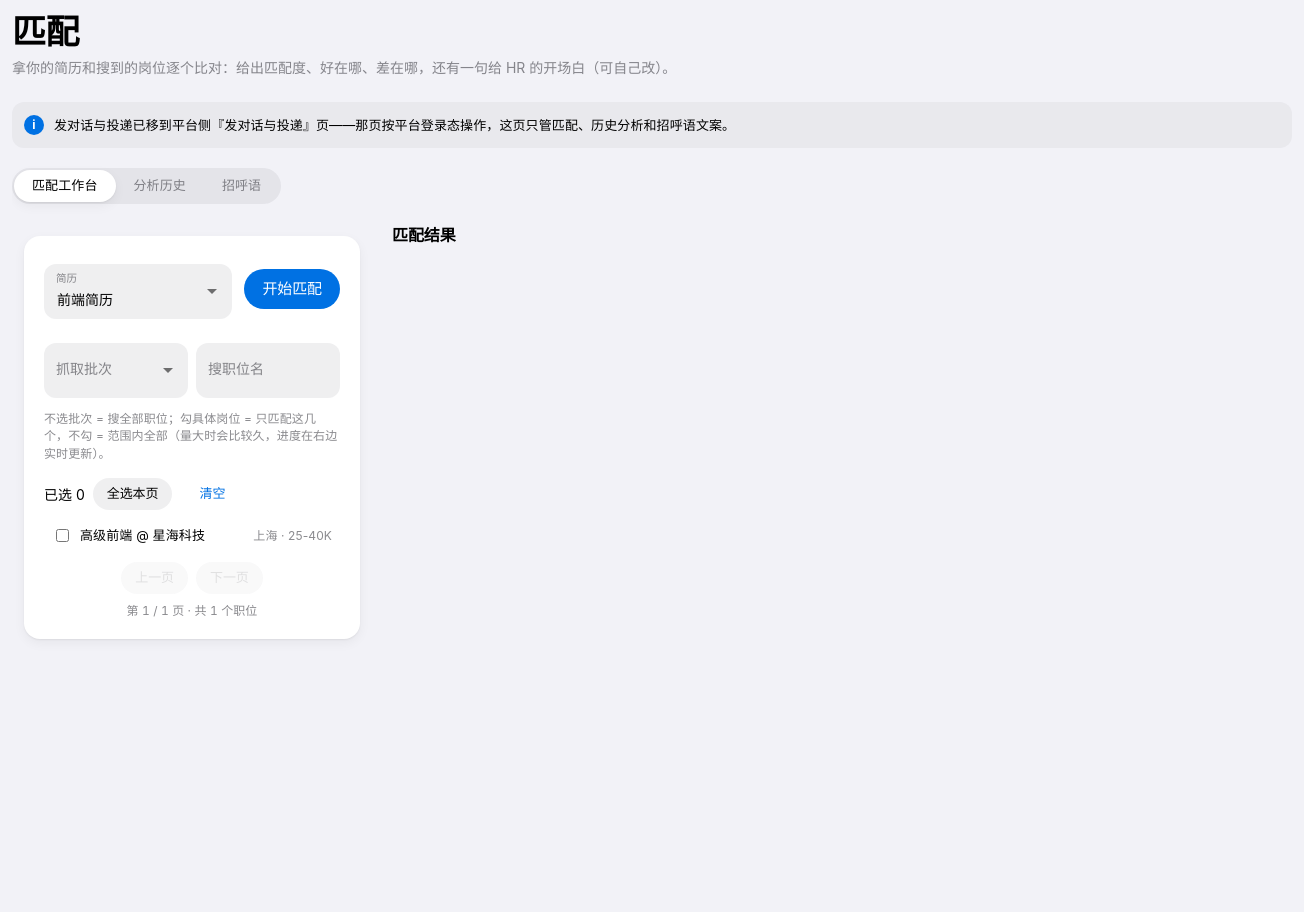
MatchPage 分段 › 首屏在匹配工作台，三个分段可切换
Expected: the button "开始匹配" is shown, [244,269,340,309]
Click the radio button labelled "分析历史" at (160, 186), box [116,170,204,202]
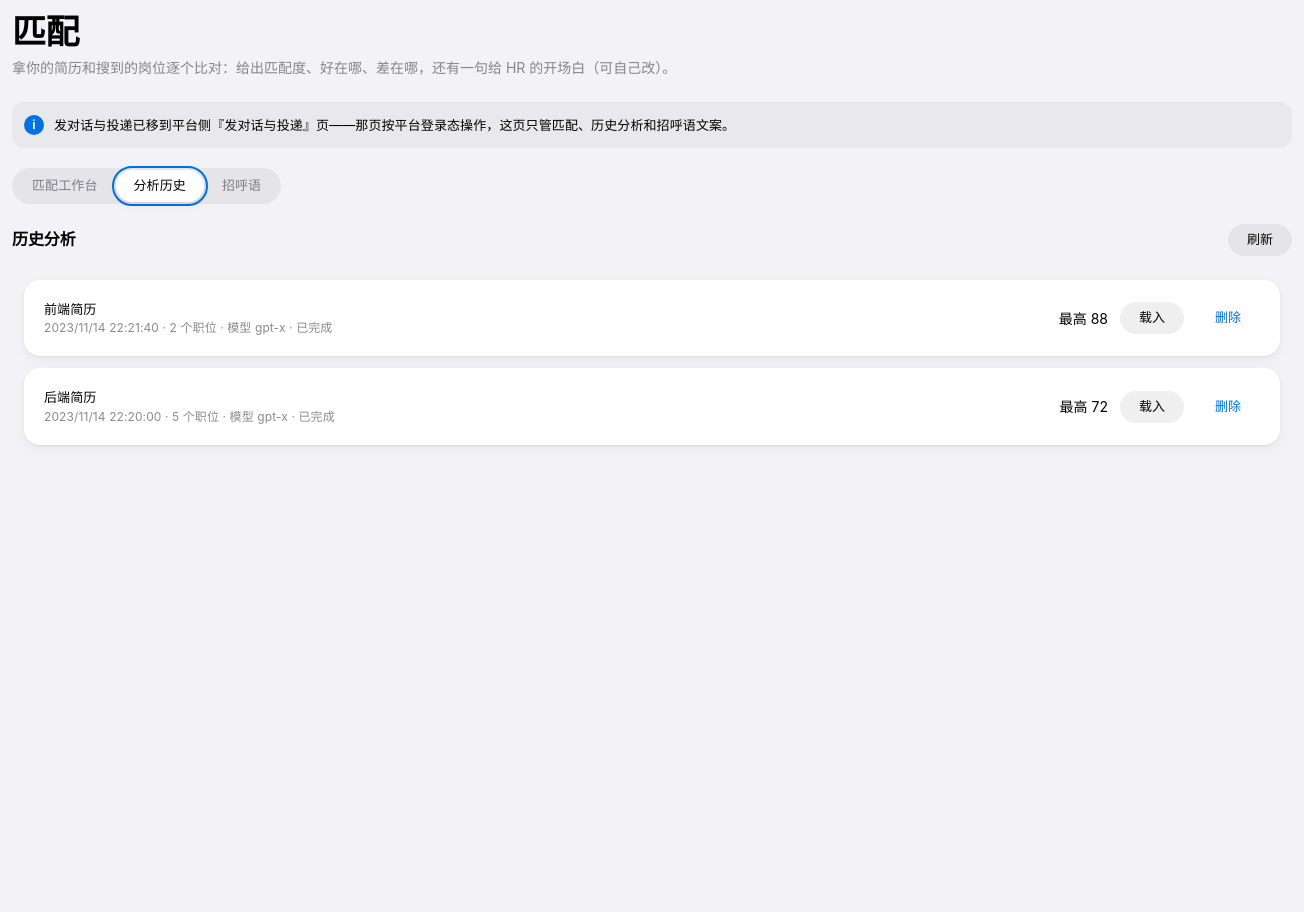
Now the element named "历史分析 a1" is shown, box [24,280,1280,356]
Click the radio button labelled "招呼语" at (242, 186), box [204,170,279,202]
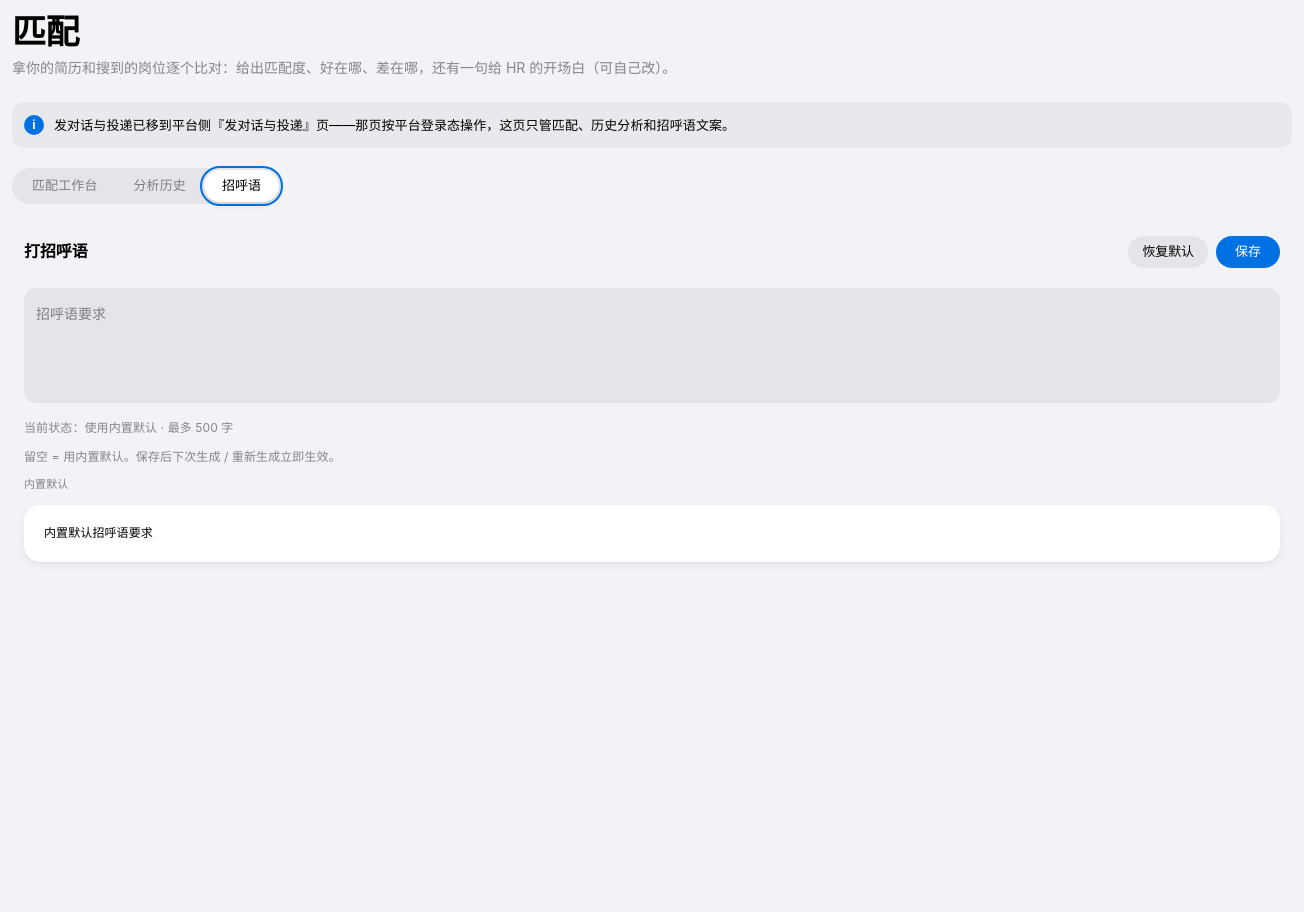
Now the text box labelled "招呼语要求" is shown, box [37,314,1267,394]
